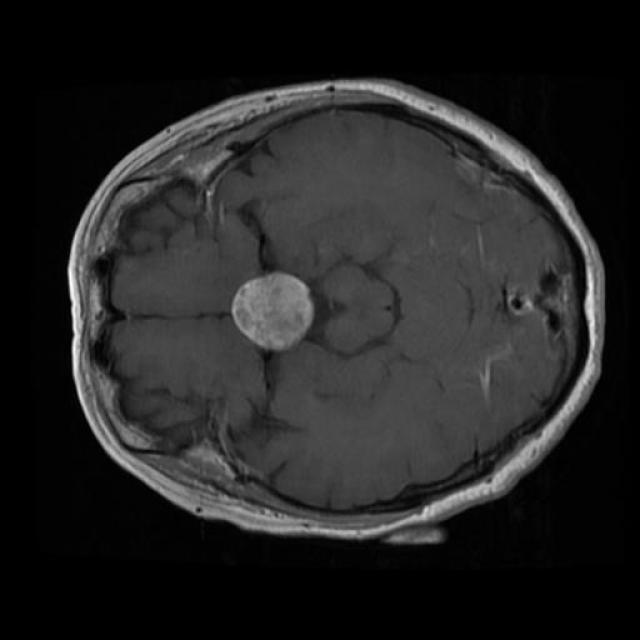Pituitary: (231, 272, 314, 351)
